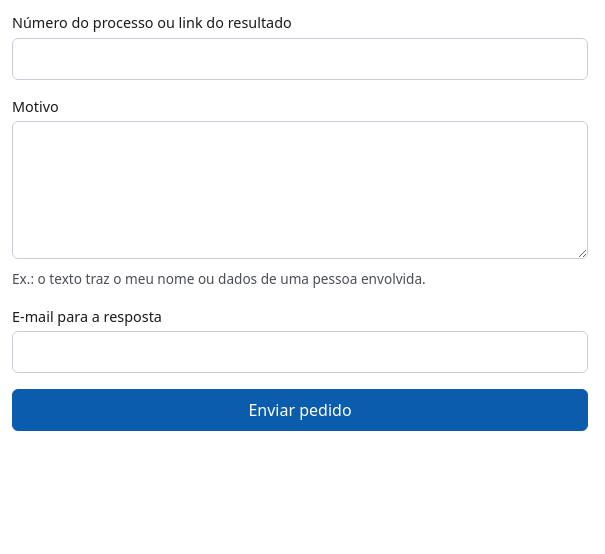
Remoção (F5-11) › falha da API aparece como alerta, mantendo o que foi digitado
Click the button "Enviar pedido" at {"x": 300, "y": 410}, box [12,389,588,431]
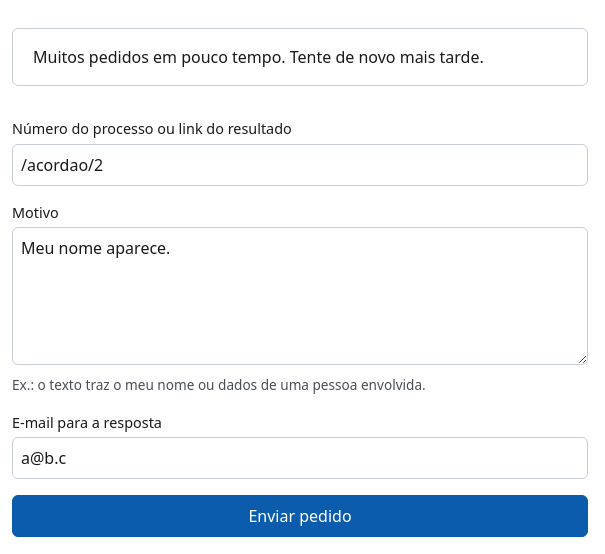
Check: the message shows "Muitos pedidos", box [33,46,484,68]
Check: the text box labelled "Motivo" holds "Meu nome aparece.", box [12,227,588,365]
